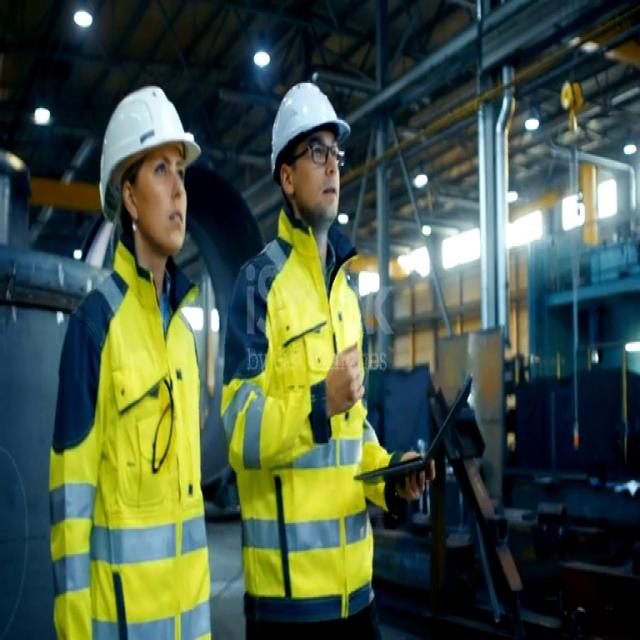capacete: (76, 68, 207, 222), (252, 58, 354, 188)
